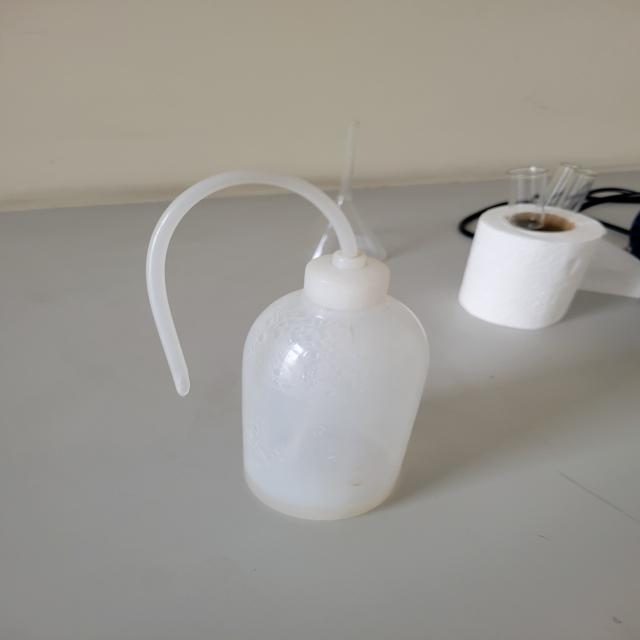Wash_Bottle: (104, 149, 465, 552)
